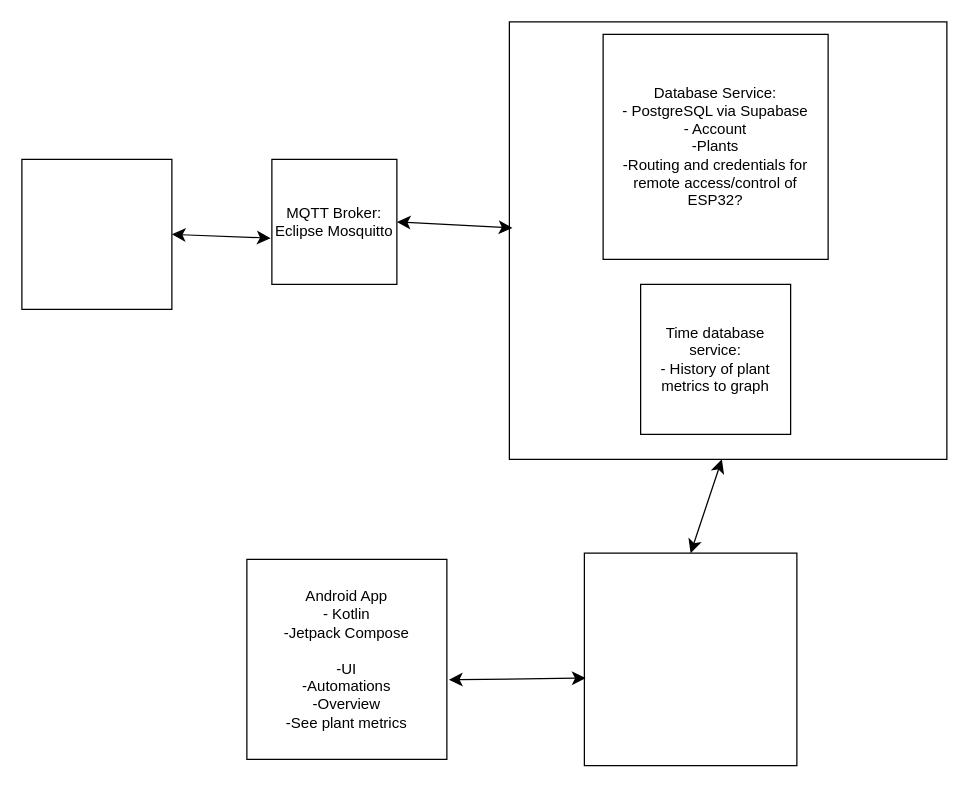
Image size: 969x788. Some labels were removed from this diagram. The shapes that lost their labels are listed below. From the top down, each one's centre as x and y in pixels, then its label:
(96,233): ESP32: - Water pump - Photo sensor -temperature sensor -moisture sensor -camera
(690,659): Backend service: -Data handling
